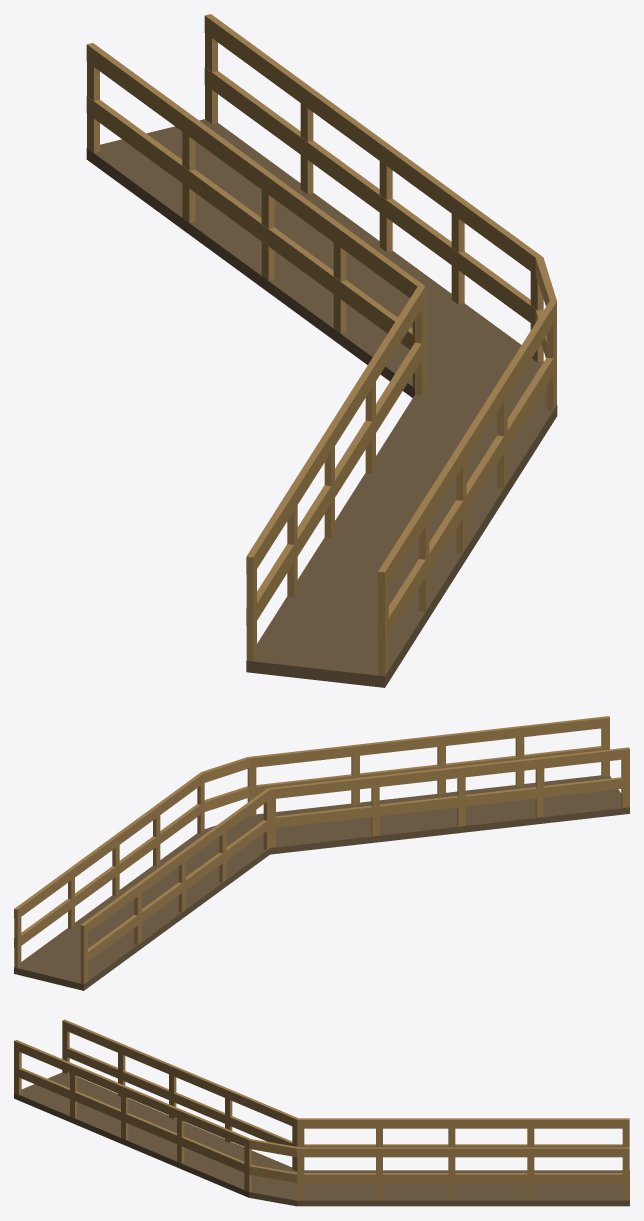
The model's file is Bridge.fbx.
The picture shows the model from 3 angles, top to bottom: view 1: azimuth 30°, elevation 25°; view 2: azimuth 150°, elevation 25°; view 3: azimuth 270°, elevation 25°; orthographic projection. The views are drawn at different scales.
Parts seen in each view (by area): view 1: pCube33; view 2: pCube33; view 3: pCube33.
Part boxes in pixels (left/top/right/bottom): pCube33: left=86, top=14, right=557, bottom=687; pCube33: left=14, top=716, right=629, bottom=990; pCube33: left=14, top=1019, right=629, bottom=1206.
Size of the model in its own units: 9.12 by 1.9 by 18.34.
